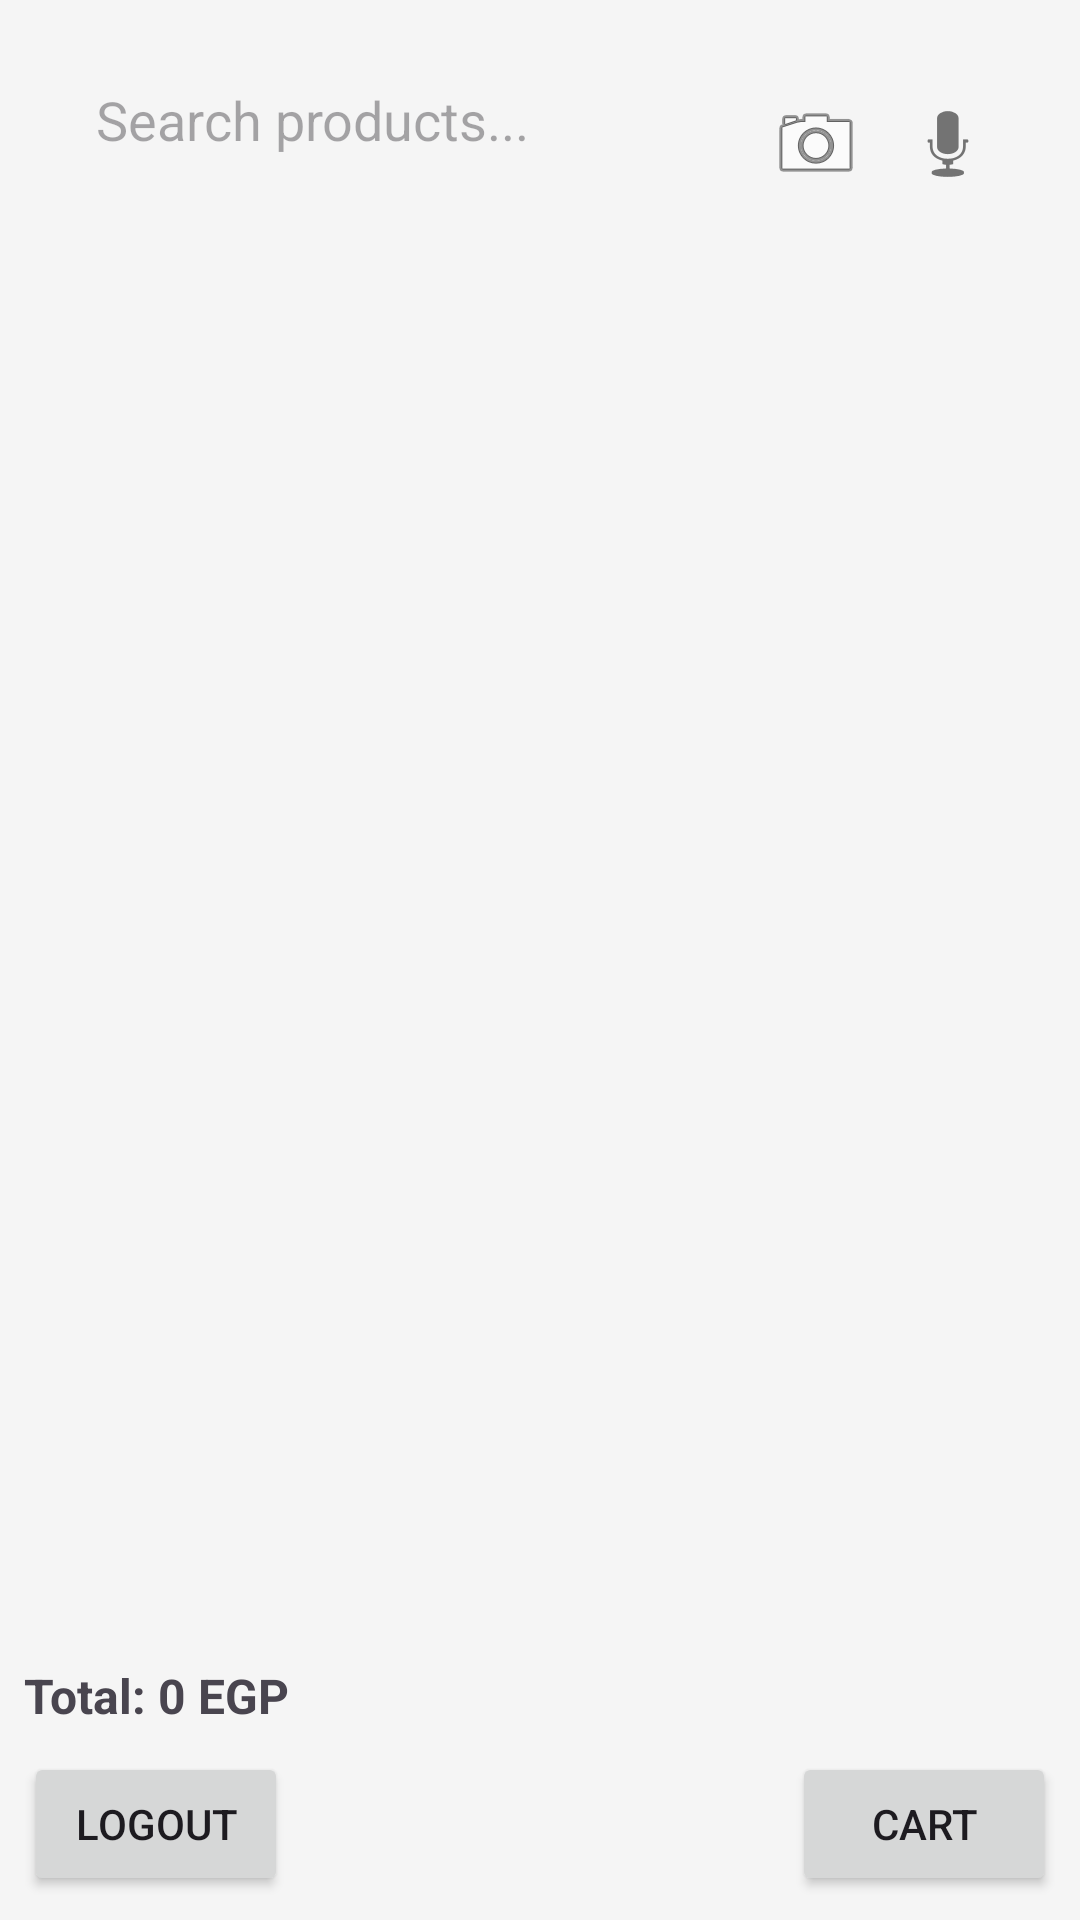

Locate icon controls on the screen. Image size 1080x1920, boxes as (x1, y1, x2, y2).
camera: (779, 113, 853, 172)
speak now: (927, 111, 969, 177)
